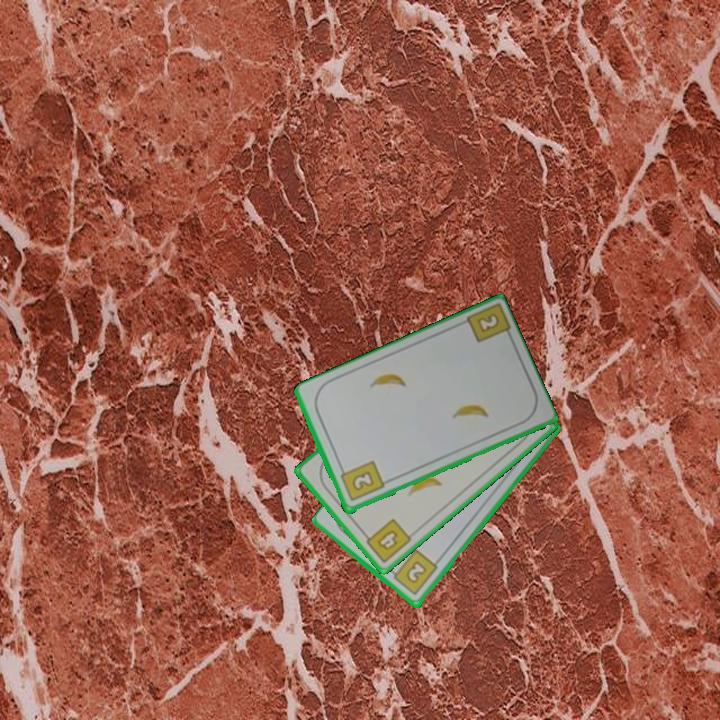2b: (386, 547, 441, 598), (337, 458, 387, 504), (473, 310, 502, 336)
4b: (359, 515, 414, 566)
